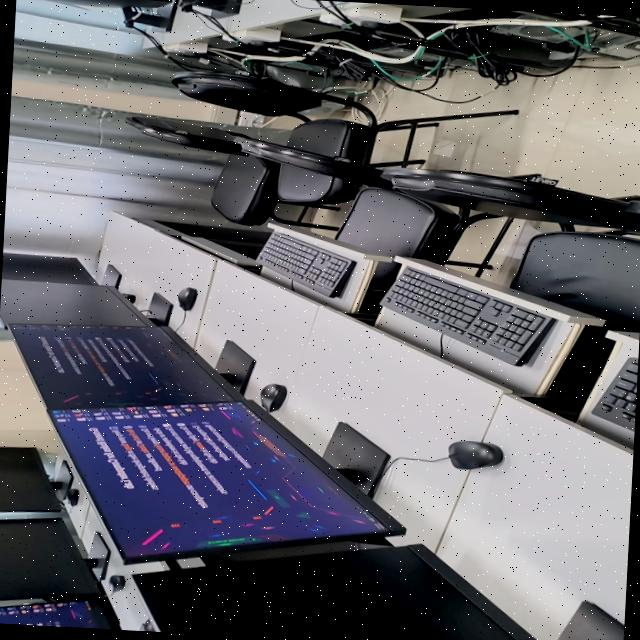Chair: (376, 167, 640, 332), (233, 136, 510, 275), (173, 71, 518, 166), (125, 115, 339, 229), (278, 166, 361, 205)
Keyboard: (382, 265, 555, 365), (258, 231, 356, 296), (592, 357, 638, 430)
Monitor: (51, 401, 393, 556), (133, 544, 538, 640), (10, 323, 241, 409), (0, 517, 100, 599), (0, 279, 157, 325), (0, 446, 60, 510), (0, 600, 112, 630), (2, 252, 97, 283), (51, 0, 171, 7)
Mouse: (448, 440, 503, 469), (260, 383, 287, 411), (177, 287, 197, 310), (108, 574, 125, 592), (63, 488, 79, 506)
